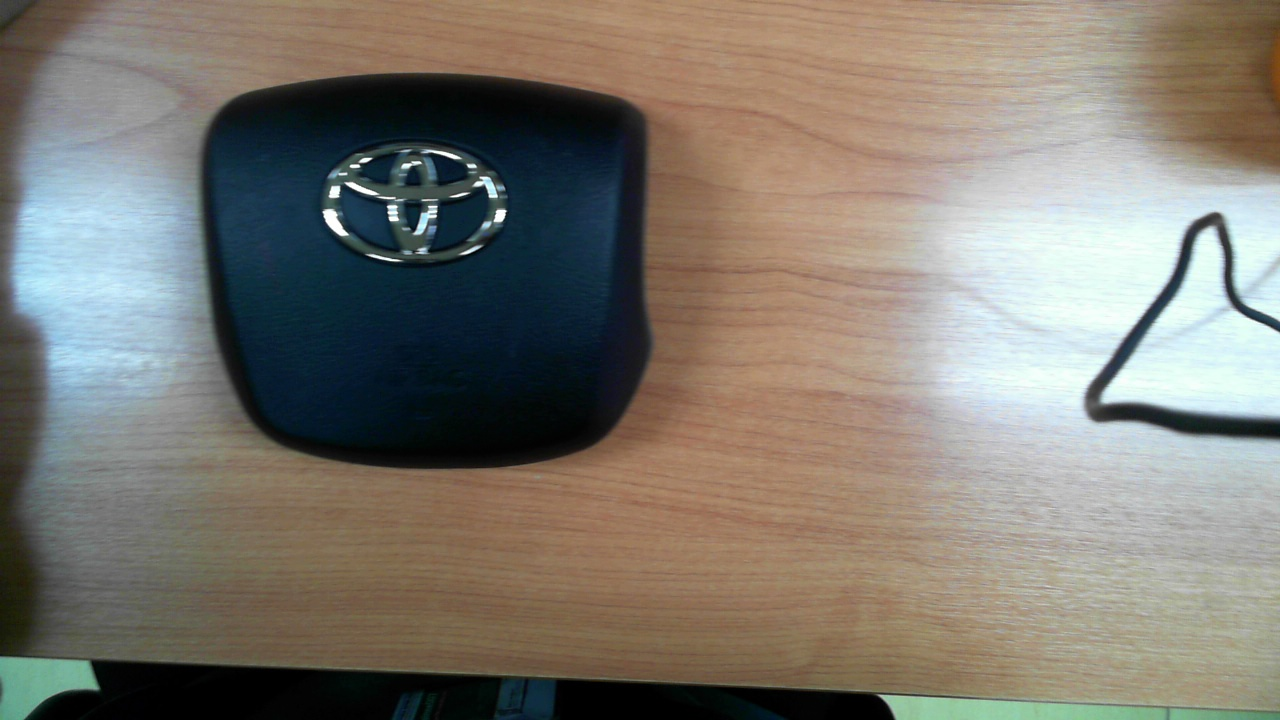Airbag: (198, 72, 652, 469)
Toyota: (322, 148, 506, 262)
